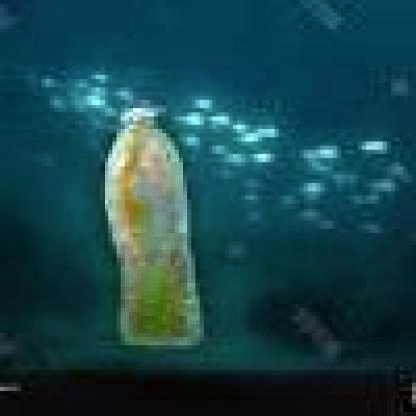pbottle: (79, 104, 208, 349)
